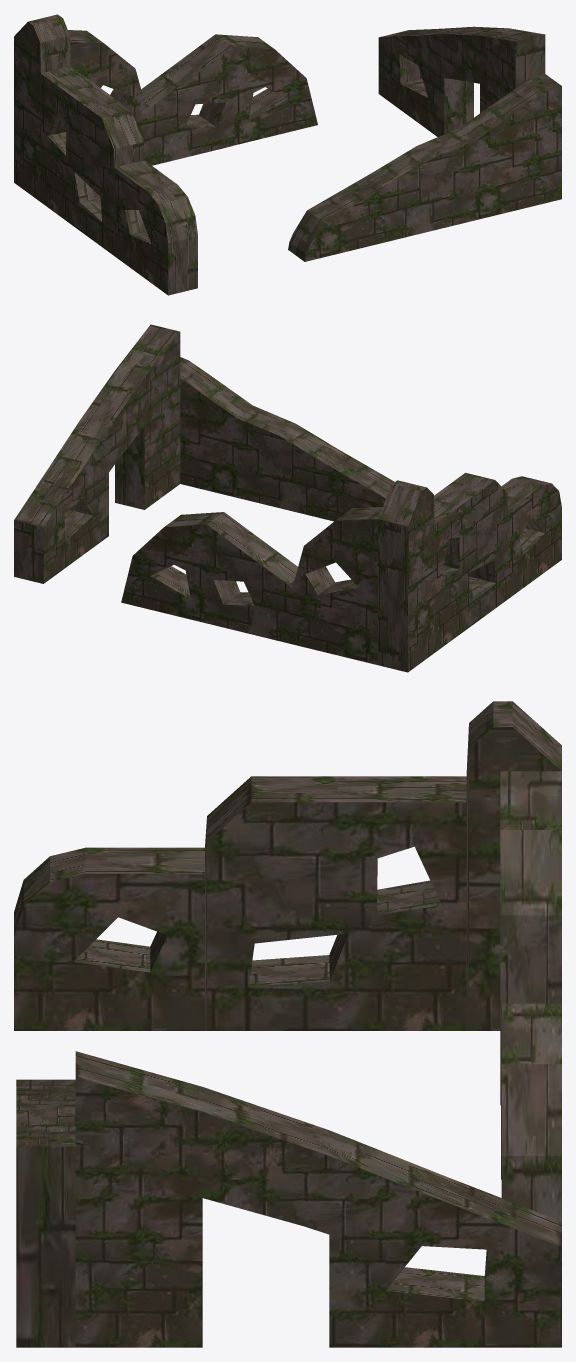
The model's file is ruina.fbx.
3 renders of one model, top to bottom at view 1: azimuth 30°, elevation 25°; view 2: azimuth 150°, elevation 25°; view 3: azimuth 270°, elevation 25°, orthographic. The views are drawn at different scales.
Parts seen in each view (by area): view 1: Cube.002; view 2: Cube.002; view 3: Cube.002.
Boxes of the visible parts, bbox=[...] form: Cube.002: bbox=[14, 14, 561, 295]; Cube.002: bbox=[14, 324, 561, 672]; Cube.002: bbox=[14, 701, 561, 1347].
Size of the model in its own units: 920 by 382 by 623.
1 material, 1 textured.
